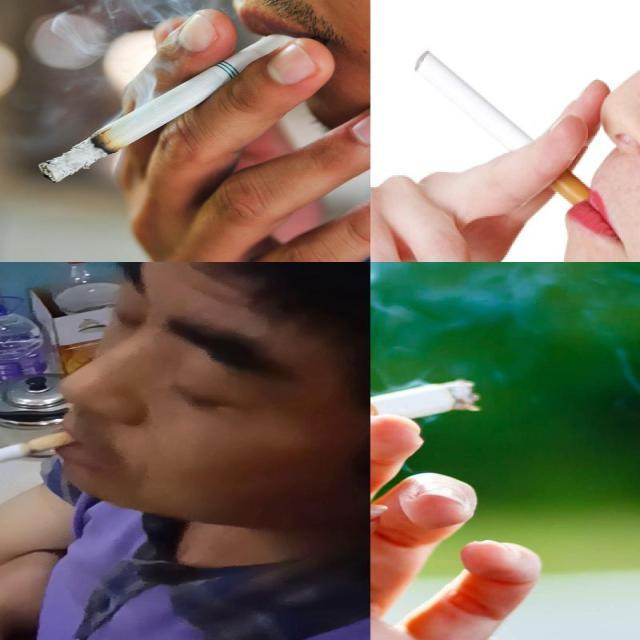smoking: (36, 32, 302, 186), (412, 48, 596, 215), (370, 380, 480, 450), (0, 431, 76, 494)
